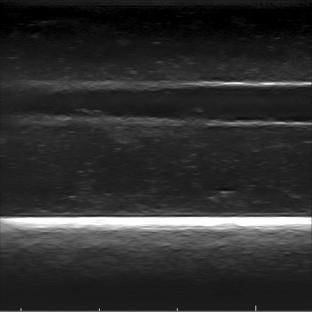vessel: (64, 79, 312, 132)
